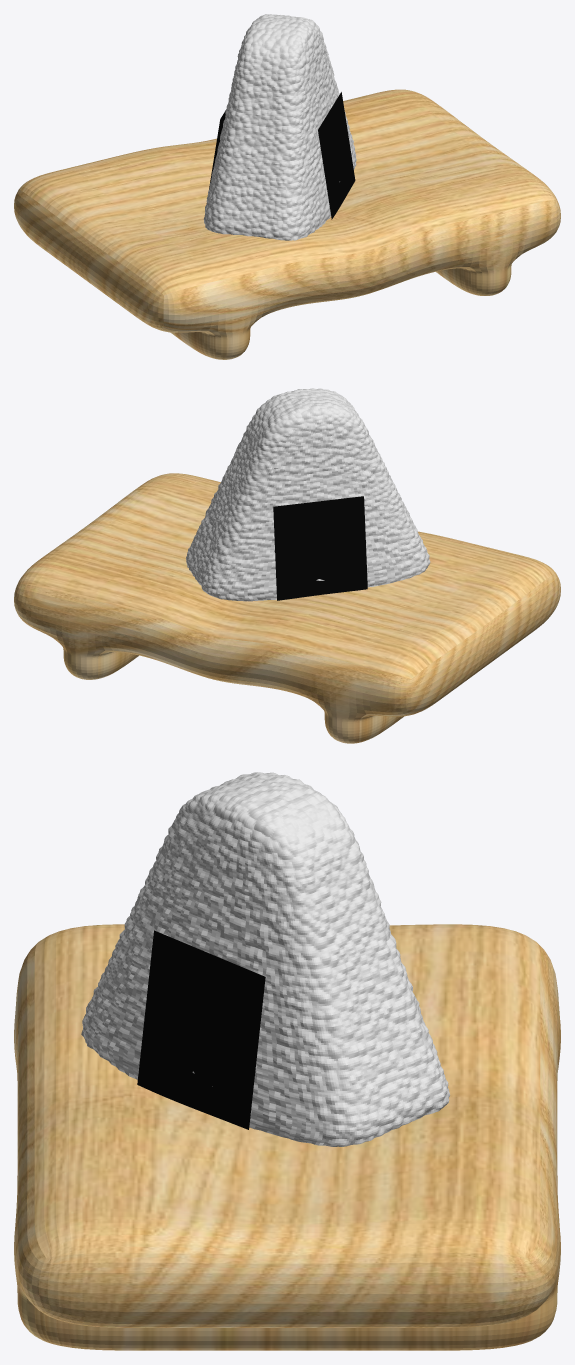
The model's file is Onigiri.fbx.
3 renders of one model, top to bottom at view 1: azimuth 30°, elevation 25°; view 2: azimuth 150°, elevation 25°; view 3: azimuth 270°, elevation 25°, orthographic. The views are drawn at different scales.
Parts seen in each view (by area): view 1: Cube.001, Cube.015, Plane; view 2: Cube.001, Cube.015, Plane; view 3: Cube.001, Cube.015, Plane.
Part boxes in pixels (x1,y1,x2,y2): Cube.001: [14, 89, 560, 359]; Cube.015: [203, 14, 356, 240]; Plane: [206, 92, 355, 219]; Cube.001: [14, 473, 560, 743]; Cube.015: [186, 388, 430, 601]; Plane: [273, 496, 367, 600]; Cube.001: [14, 924, 560, 1350]; Cube.015: [81, 772, 449, 1146]; Plane: [137, 930, 265, 1129].
Size of the model in its own units: 278 by 169 by 191.
2 materials, 1 textured.
